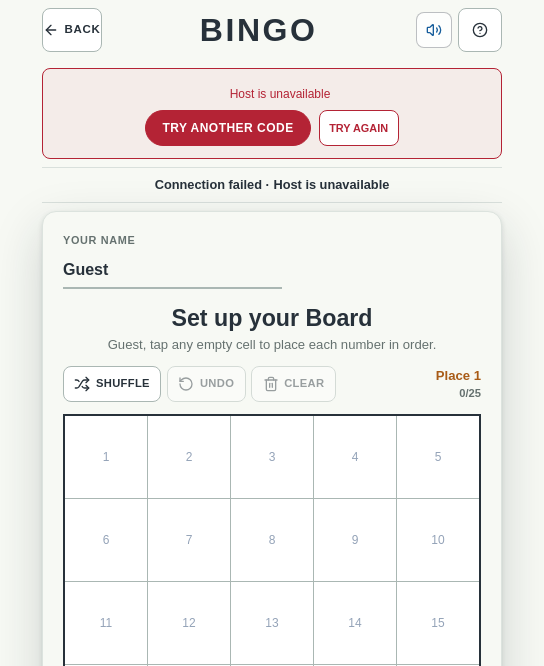
Test case: BingoOnlineGame entry flow and state machine › Try another code transitions from guest error back to join code screen without remounting to choice
This screenshot has width=544, height=666.
Clicking "Try another code" should open the join-code screen, NOT the choice screen
Click the button "Try another code".
click(228, 128)  # box top-left (145, 110), bottom-right (311, 146)
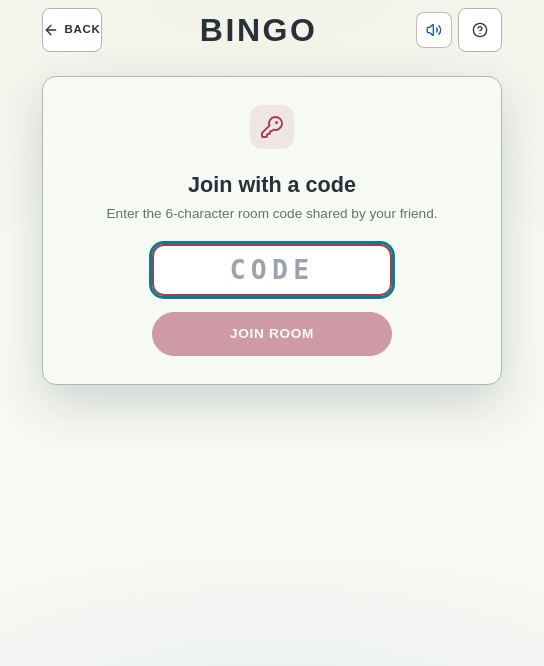
Result: the heading "Join with a code" is shown at top-left (188, 172), bottom-right (356, 197)
Result: the field with placeholder "CODE" is shown at top-left (152, 244), bottom-right (392, 296)
